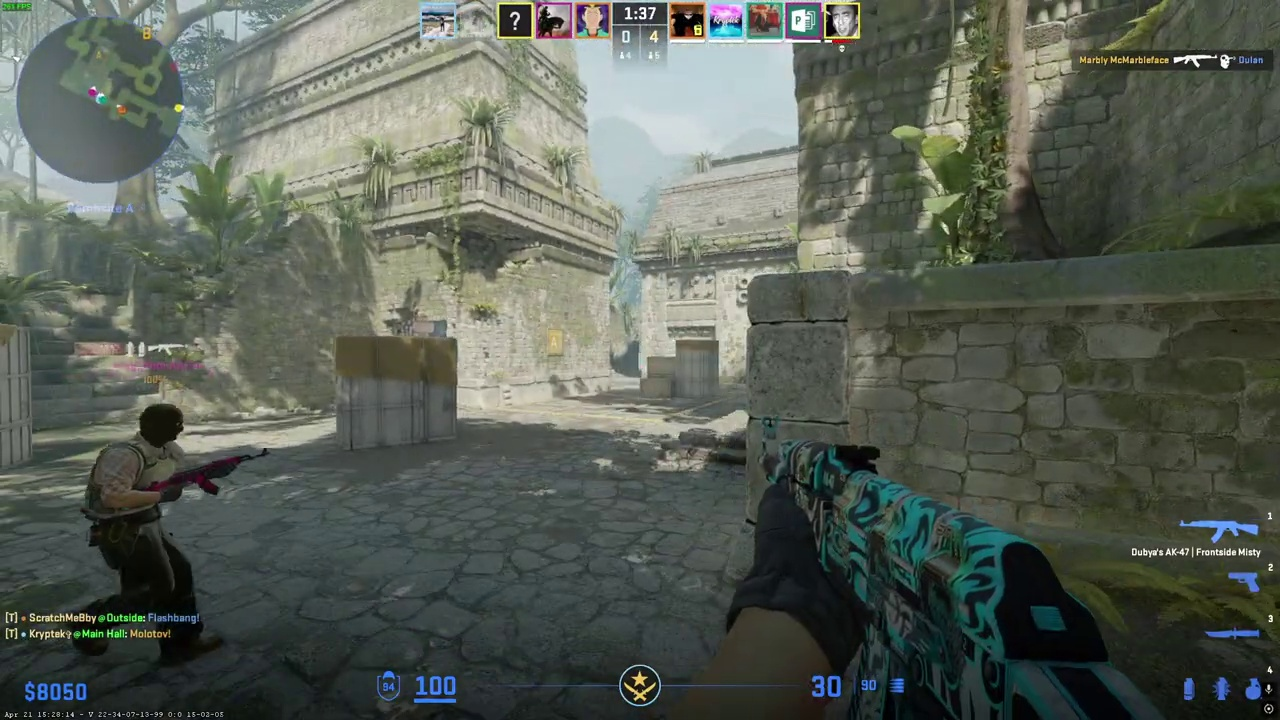Terrorist: (74, 404, 221, 668)
